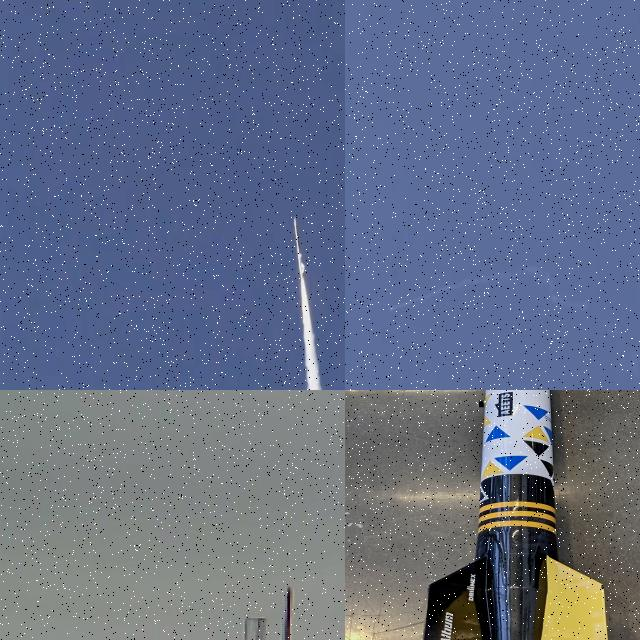Rocket: (422, 390, 608, 640), (275, 584, 293, 640), (294, 214, 305, 276), (390, 308, 393, 310)
